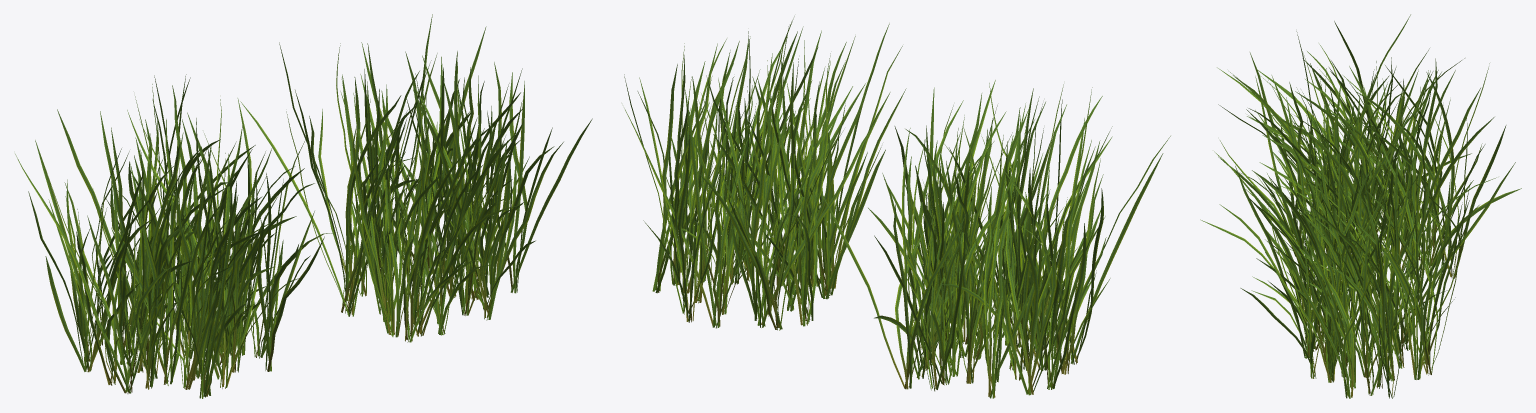
The model's file is grass.glb.
3 views of the same model, side by side, from view 1: azimuth 30°, elevation 25°; view 2: azimuth 150°, elevation 25°; view 3: azimuth 270°, elevation 25° (orthographic). The views are drawn at different scales.
Visible parts, largest first — view 1: Wild Grass Patch 2, Wild Grass Patch 3; view 2: Wild Grass Patch 2, Wild Grass Patch 3; view 3: Wild Grass Patch 3, Wild Grass Patch 2.
Part boxes in pixels (x1,y1,x2,y2): Wild Grass Patch 2: [15, 74, 335, 398]; Wild Grass Patch 3: [240, 14, 592, 342]; Wild Grass Patch 2: [821, 80, 1170, 398]; Wild Grass Patch 3: [624, 16, 906, 330]; Wild Grass Patch 3: [1200, 127, 1515, 398]; Wild Grass Patch 2: [1217, 14, 1521, 288].
Size of the model in its own units: 1.89 by 0.9437 by 1.24.
Materials: 4 (4 with a texture image).
